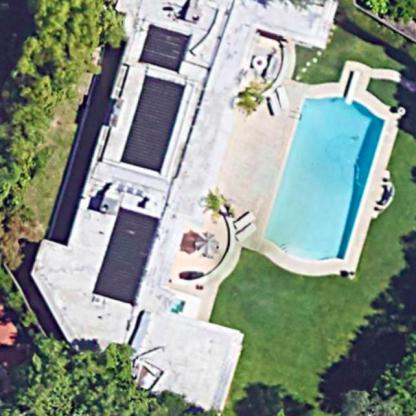swimming_pool: (267, 65, 392, 289)
